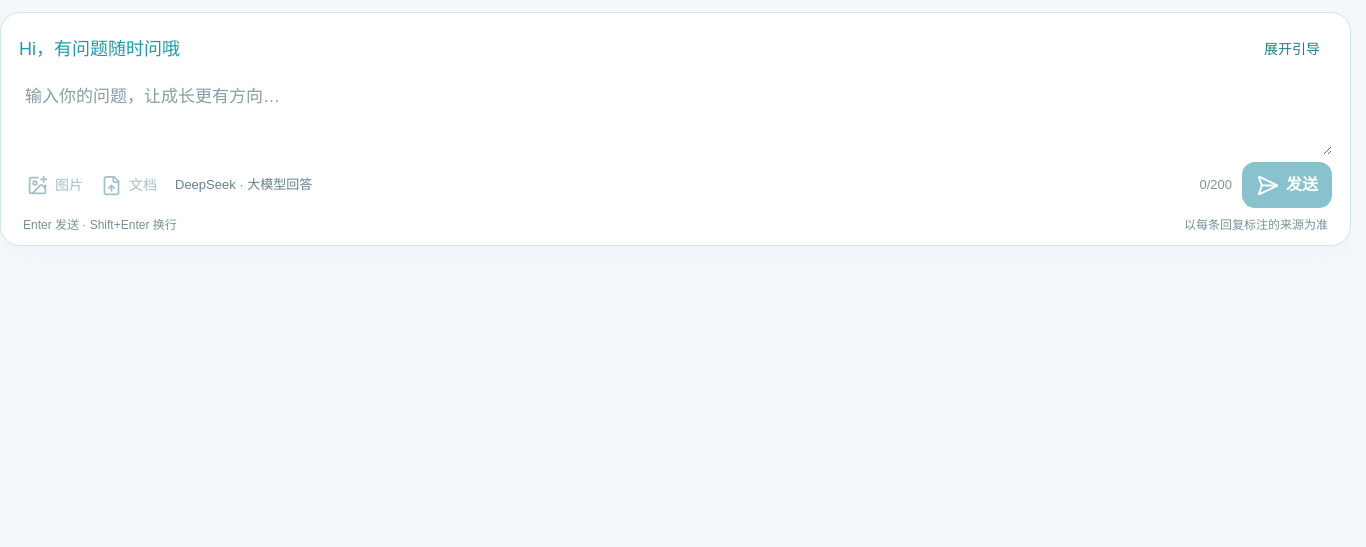
Test: GrowthAssistantEntry › does not label a local fallback as a model success
Type "下一步怎么训练？" into the text box labelled "Hi，有问题随时问哦" at {"x": 676, "y": 113}, box 19,71 -> 1332,155
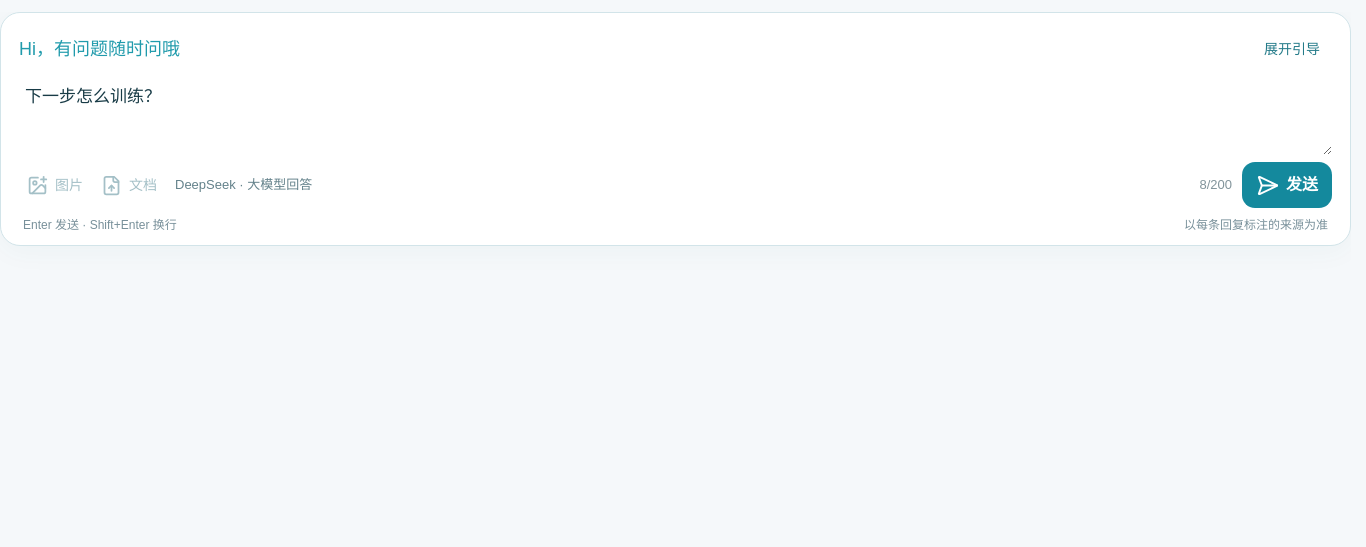
Submit the form, box 0,12 -> 1351,246
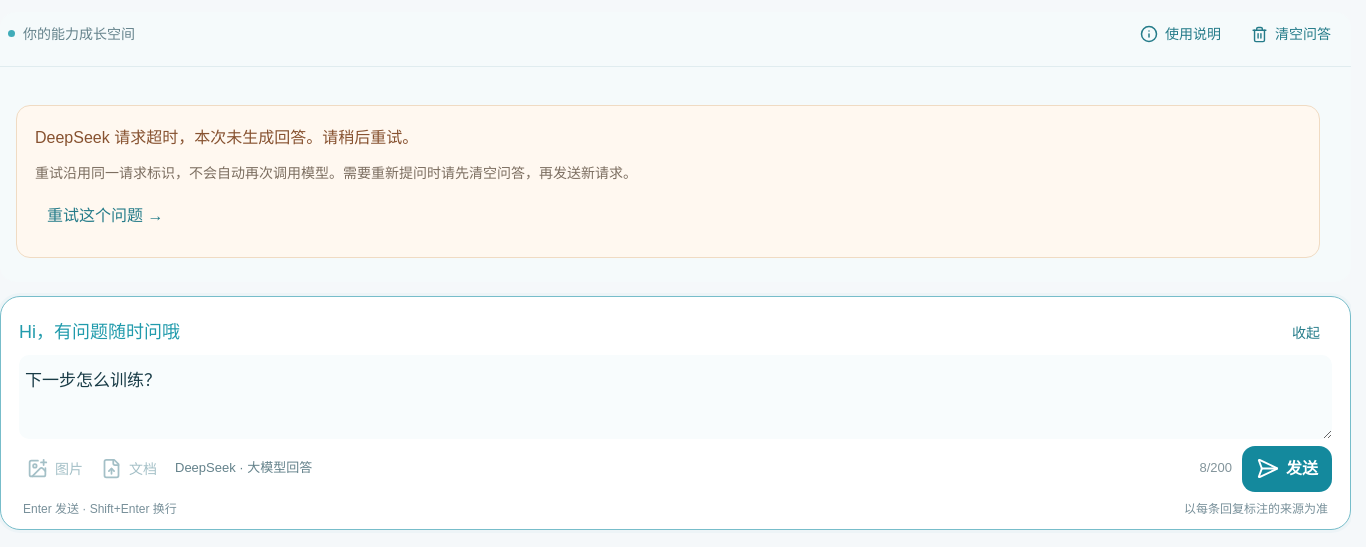
Expected: the text "DeepSeek 请求超时" is shown, 35,129 -> 418,146
